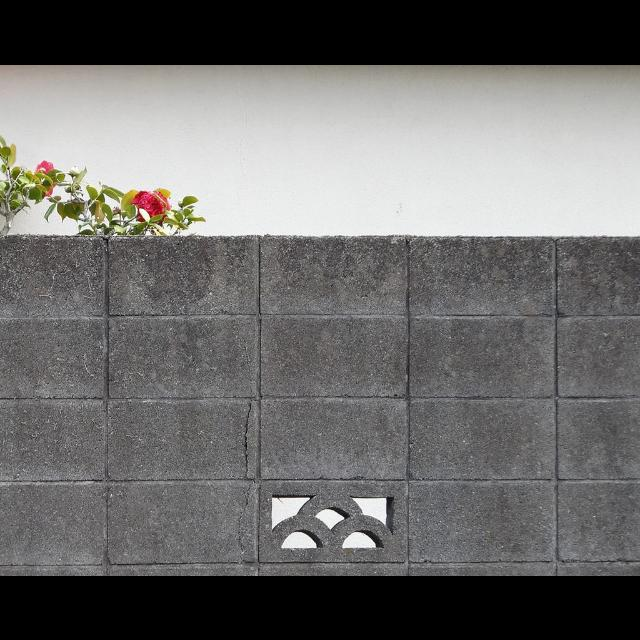Flower: (130, 187, 172, 229), (36, 160, 54, 192)
